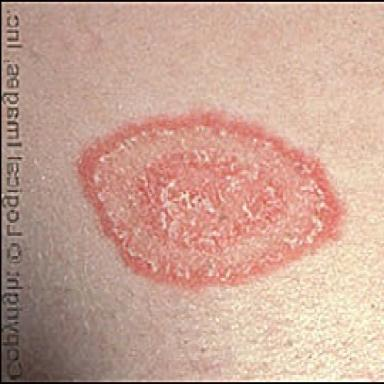Tinea-Corporis: (79, 111, 344, 289)
